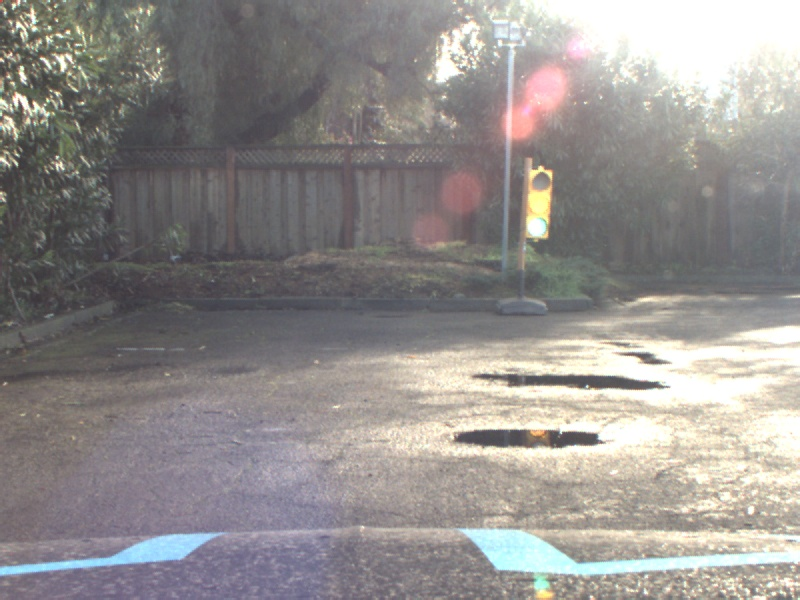Yellow: (528, 169, 550, 239)
